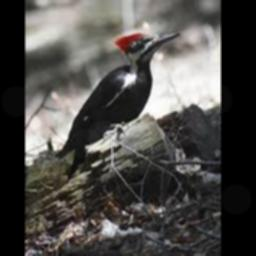Woodpecker: (56, 30, 180, 175)
